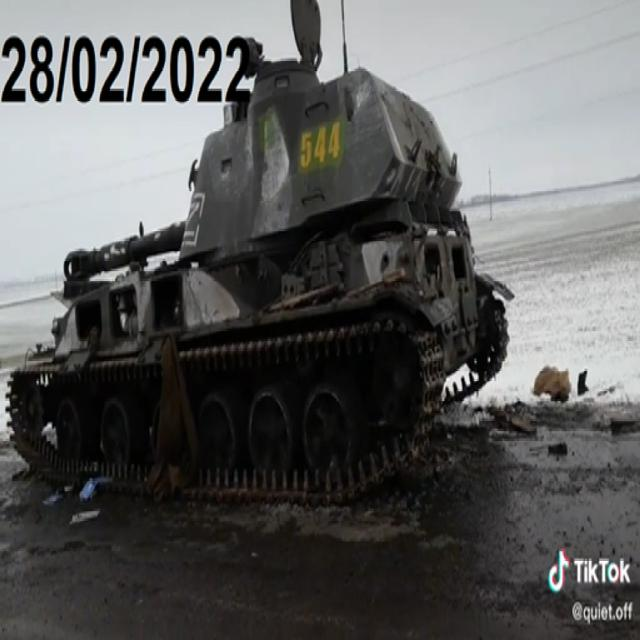ART: (6, 51, 510, 476)
